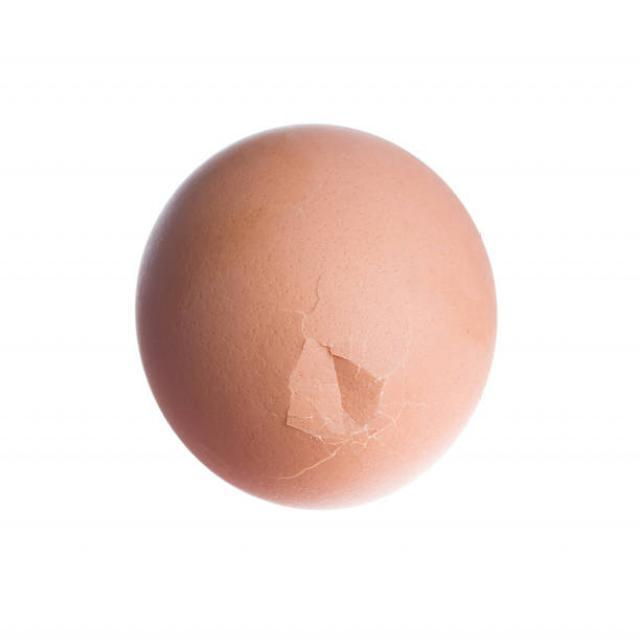biodegradable: (124, 108, 506, 526)
